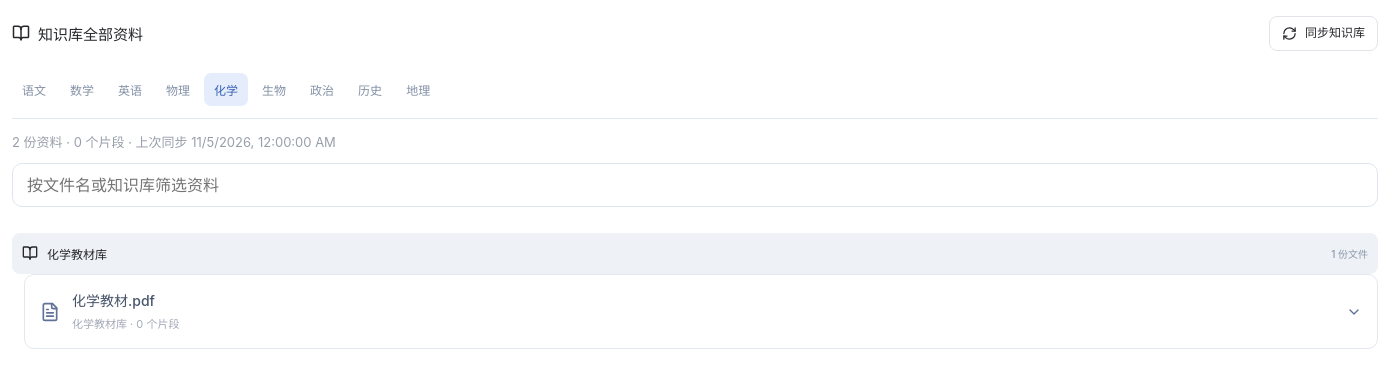
Test: nine subject tabs keep their order and show only the selected subject
expect the button "化学教材.pdf 化学教材库 · 0 个片段" is shown: met, box top-left (25, 275), bottom-right (1377, 348)
expect the button "数学教材.pdf" is not shown: met
Click the tab "数学" at (82, 89), box top-left (60, 73), bottom-right (104, 106)
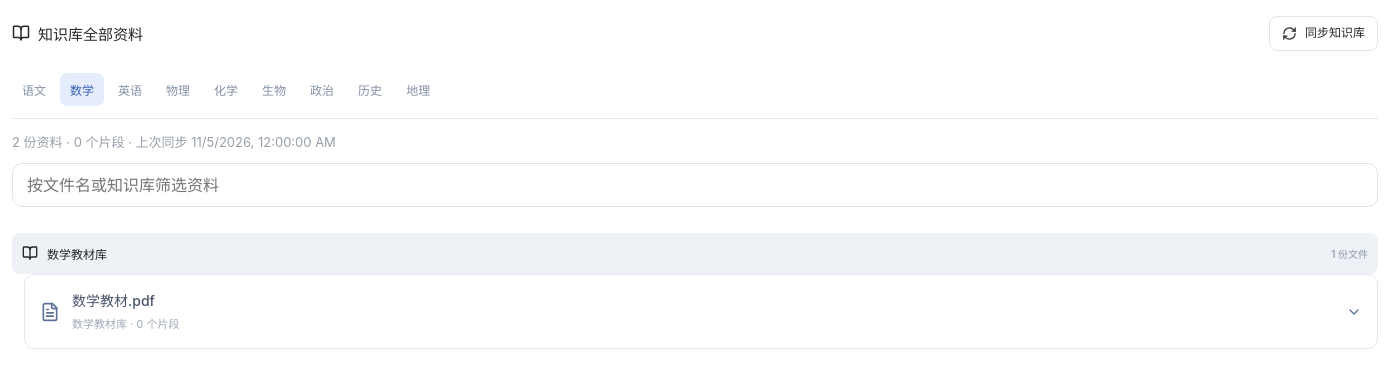
expect the button "数学教材.pdf 数学教材库 · 0 个片段" is shown: met, box top-left (25, 275), bottom-right (1377, 348)
expect the button "化学教材.pdf" is gone: met
Press ArrowRight in the tab "数学", box top-left (60, 73), bottom-right (104, 106)
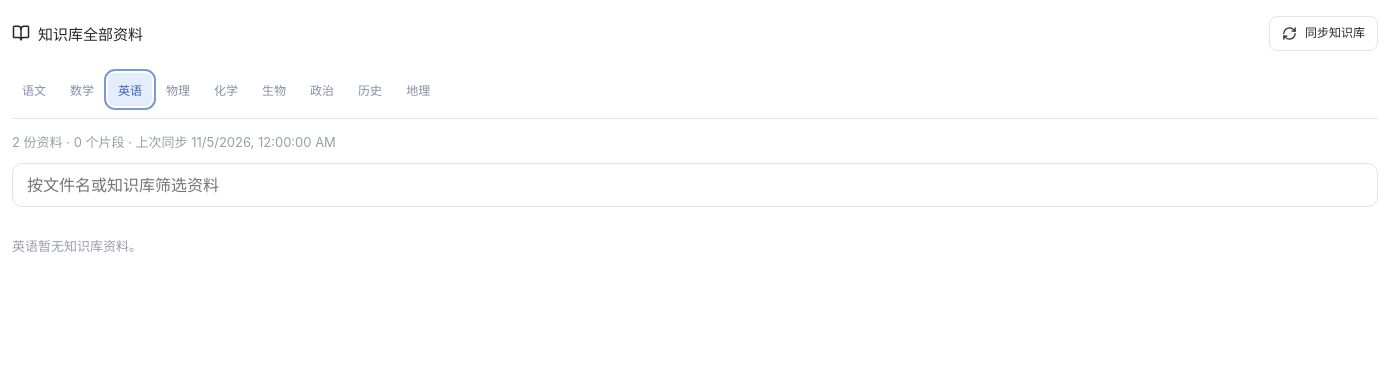
expect the text "英语暂无知识库资料。" is shown: met, box top-left (12, 238), bottom-right (142, 254)
